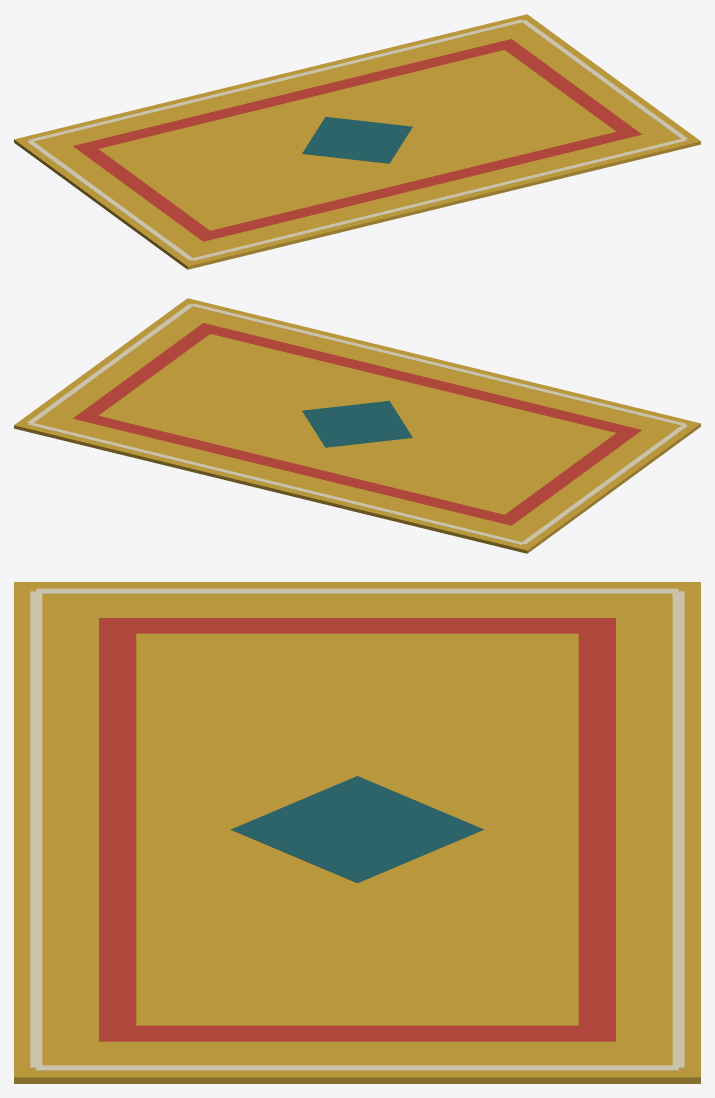
The model's file is rugRectangle.glb.
3 views of the same model, one above another, from view 1: azimuth 30°, elevation 25°; view 2: azimuth 150°, elevation 25°; view 3: azimuth 270°, elevation 25° (orthographic). The views are drawn at different scales.
Parts seen in each view (by area): view 1: rugRectangle(Clone); view 2: rugRectangle(Clone); view 3: rugRectangle(Clone).
Boxes of the visible parts, box(x1,y1,x2,y2) form: rugRectangle(Clone): box(14, 14, 700, 269); rugRectangle(Clone): box(14, 298, 700, 553); rugRectangle(Clone): box(14, 582, 700, 1083).
Bounding box in the file's own units: 1.57 × 0.01 × 0.92.
